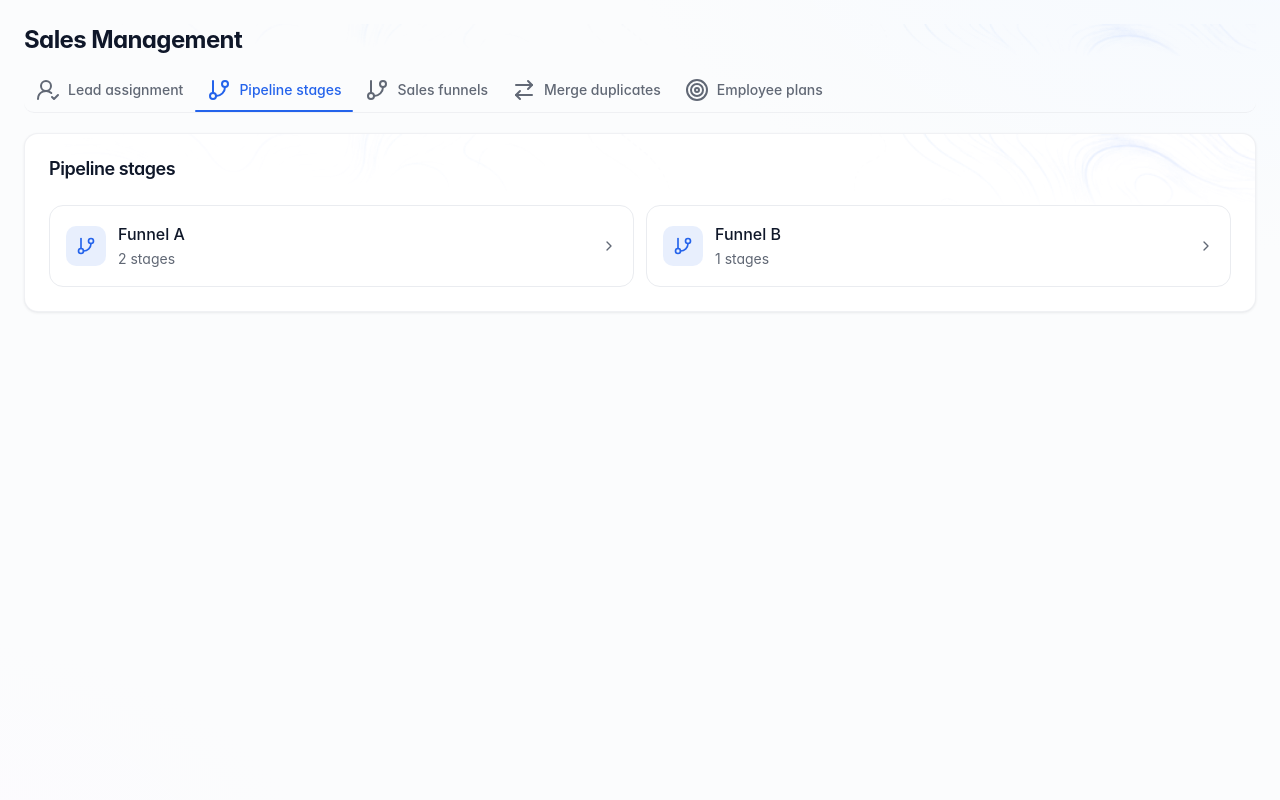
protects only the recorded first stage while allowing old coded stages to be edited and deleted
Click the button "Funnel A 2 stages". click: coordinates (86, 246)
box: [49,204,634,286]
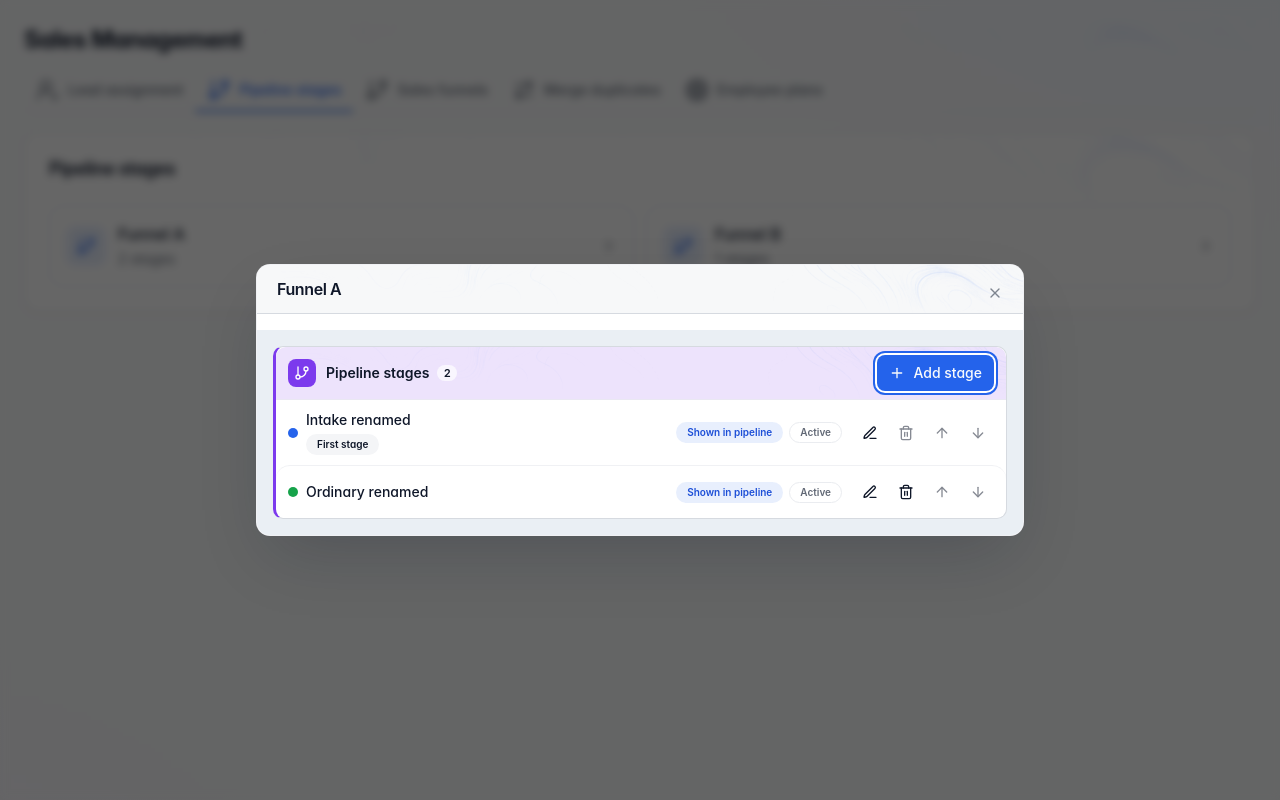
Result: the text "First stage" is shown at [306,434,379,455]
Result: the 3rd button named "Delete" is disabled at [890,416,922,448]
Result: the 7th button named "Delete" is enabled at [890,476,922,508]
Click the 6th button named "Edit". click: coordinates (870, 492)
box: [854,476,886,508]
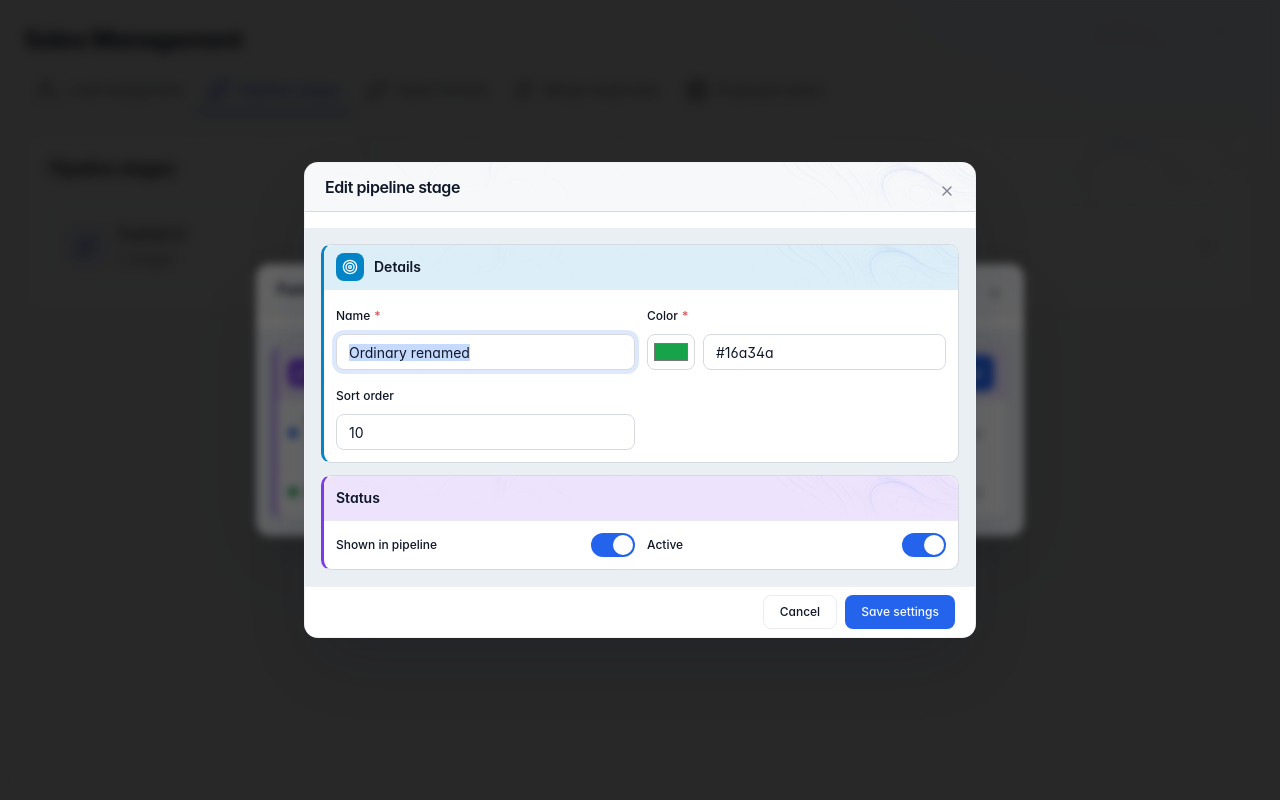
Result: the 1st switch named "Shown in pipeline" is enabled at [591,533,635,557]
Result: the 2nd switch named "Active" is enabled at [902,533,946,557]
Result: the number field labelled "Sort order" is enabled at [336,414,635,450]
